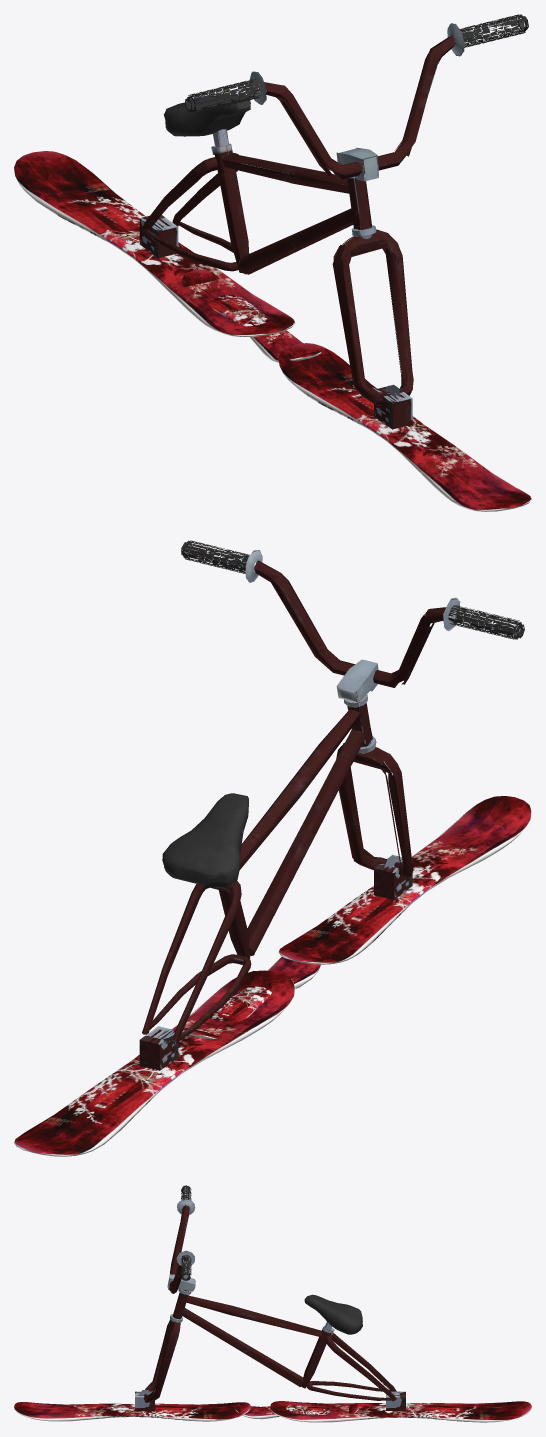
Rendered from bike.glb.
3 views of the same model, one above another, from view 1: azimuth 30°, elevation 25°; view 2: azimuth 150°, elevation 25°; view 3: azimuth 270°, elevation 25° (orthographic). The views are drawn at different scales.
Visible parts, largest first — view 1: frame, steer, footski; view 2: frame, steer, footski; view 3: frame, steer, footski.
Part boxes in pixels (left/top/right/bottom): frame: left=14, top=95, right=376, bottom=337; steer: left=185, top=14, right=531, bottom=511; footski: left=181, top=269, right=321, bottom=362; frame: left=14, top=691, right=376, bottom=1156; steer: left=181, top=540, right=531, bottom=964; footski: left=182, top=947, right=321, bottom=1039; frame: left=170, top=1289, right=531, bottom=1422; steer: left=14, top=1185, right=250, bottom=1421; footski: left=234, top=1404, right=359, bottom=1419.
Size of the model in its own units: 0.8366 by 0.8473 by 2.08.
3 materials, 3 textured.
